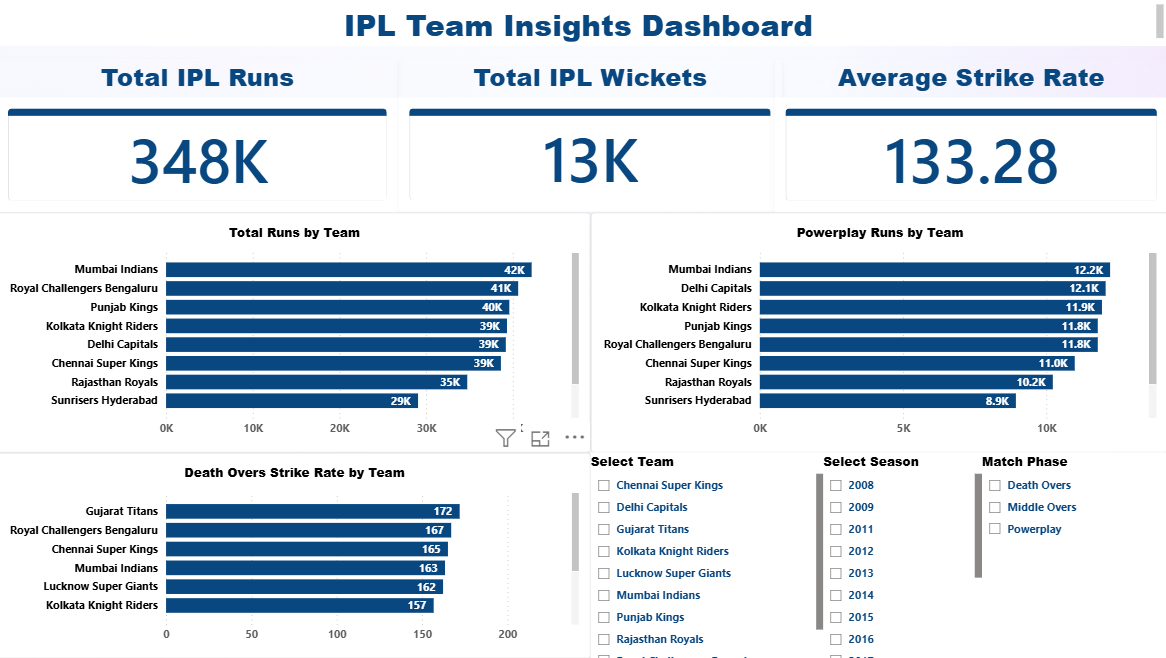

The dashboard page shown, as its layout file describes it:
{"tool":"powerbi","page":{"name":"Team Insights","canvas":[1280,720],"ordinal":0},"visuals":[{"type":"cardVisual","title":"Total IPL Runs","fields":{"Data":["deliveries_clean.Total Runs"]},"box":[0,64.2,438.6,168.1],"z":0},{"type":"cardVisual","title":"Total IPL Wickets","fields":{"Data":["deliveries_clean.Total Wickets"]},"box":[439.1,64.5,419.9,167.4],"z":1000},{"type":"cardVisual","title":"Average Strike Rate","fields":{"Data":["deliveries_clean.Strike Rate"]},"box":[849.9,64.2,430.4,168.1],"z":2000},{"type":"textbox","box":[0,0,1280.3,50.8],"z":3000},{"type":"clusteredBarChart","title":"Total Runs by Team","fields":{"Category":["deliveries_clean.batting_team"],"Y":["deliveries_clean.Total Runs"]},"box":[0,231.9,649.1,262.1],"z":4000},{"type":"clusteredBarChart","title":"Powerplay Runs by Team","fields":{"Category":["deliveries_clean.batting_team"],"Y":["deliveries_clean.Total Runs"]},"box":[649.1,231.9,631.2,262.1],"z":5000},{"type":"clusteredBarChart","title":"Death Overs Strike Rate by Team","fields":{"Category":["deliveries_clean.batting_team"],"Y":["deliveries_clean.Strike Rate"]},"box":[0,494.6,649,225.4],"z":6000},{"type":"slicer","title":"Select Team","fields":{"Values":["deliveries_clean.batting_team"]},"box":[649,494.6,254.1,225.4],"z":7000},{"type":"slicer","title":"Select Season","fields":{"Values":["matches_clean.season_fixed"]},"box":[903.2,494.6,173.5,225.4],"z":8000},{"type":"slicer","title":"Match Phase","fields":{"Values":["deliveries_clean.Phase"]},"box":[1076.7,494.6,203.6,225.4],"z":9000}]}

Visuals, with their boxes in screenshot pixels (x1, y1, x2, y2), scaled from the page's 1280x720 canvas onto the 1166x658 screenshot:
"Total IPL Runs" cardVisual: l=0, t=59, r=400, b=212
"Total IPL Wickets" cardVisual: l=400, t=59, r=782, b=212
"Average Strike Rate" cardVisual: l=774, t=59, r=1165, b=212
textbox: l=0, t=0, r=1165, b=46
"Total Runs by Team" clusteredBarChart: l=0, t=212, r=591, b=451
"Powerplay Runs by Team" clusteredBarChart: l=591, t=212, r=1165, b=451
"Death Overs Strike Rate by Team" clusteredBarChart: l=0, t=452, r=591, b=657
"Select Team" slicer: l=591, t=452, r=823, b=657
"Select Season" slicer: l=823, t=452, r=981, b=657
"Match Phase" slicer: l=981, t=452, r=1165, b=657
